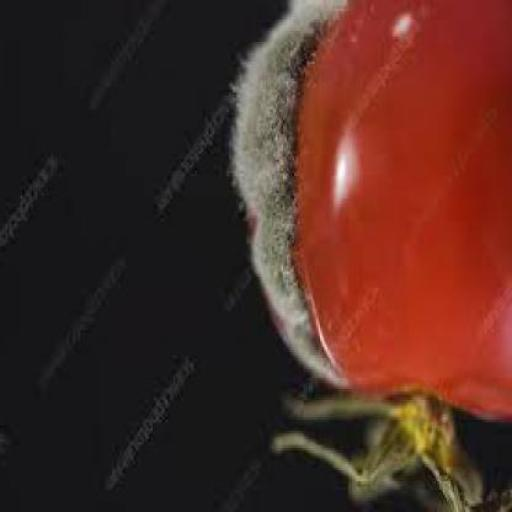biodegradable: (230, 2, 511, 511)
